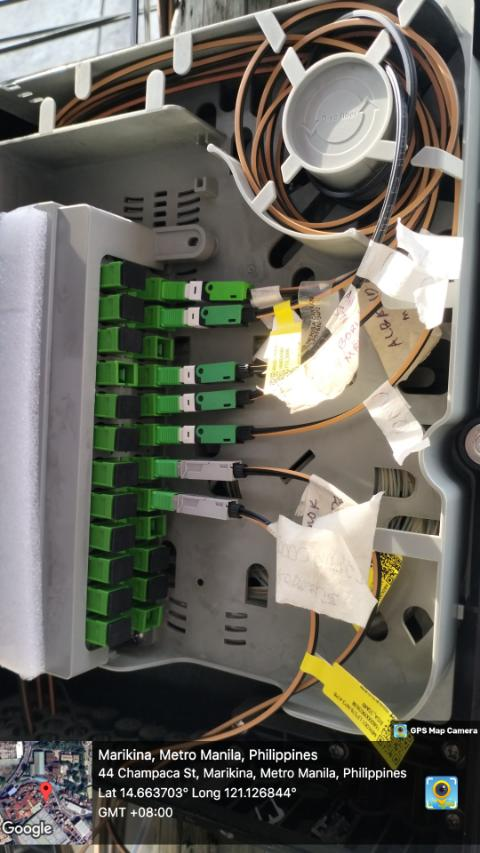no dust cap: (143, 607, 163, 632), (117, 362, 137, 386), (157, 336, 174, 359), (149, 516, 166, 539)
occupied: (151, 488, 244, 524), (156, 456, 249, 483), (157, 420, 257, 445), (159, 359, 251, 386), (158, 388, 251, 414), (161, 279, 251, 303), (160, 303, 250, 327)
vacant: (123, 262, 147, 291), (108, 619, 131, 647), (122, 295, 144, 323), (111, 556, 133, 582), (110, 588, 132, 614), (122, 328, 143, 354), (150, 548, 171, 574), (116, 463, 138, 487), (115, 495, 137, 519), (112, 526, 134, 550), (118, 397, 141, 419), (148, 578, 169, 600), (118, 428, 138, 451)
